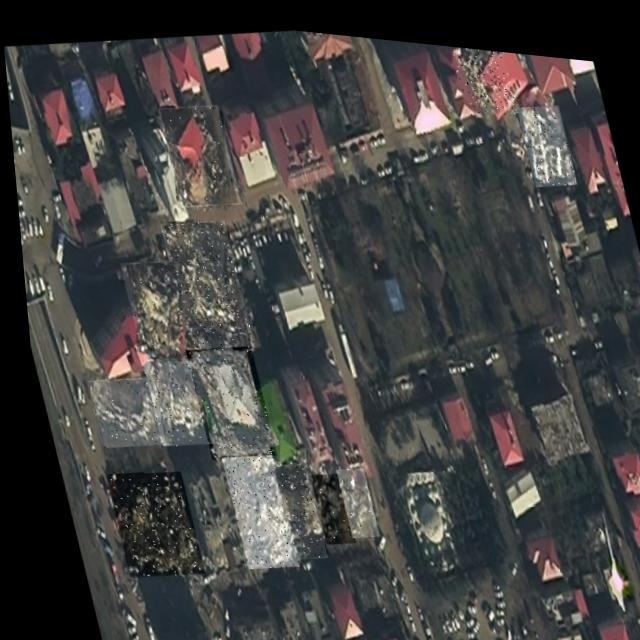Rubble: (155, 211, 251, 357), (97, 462, 195, 582), (179, 336, 270, 461), (214, 445, 291, 569), (155, 96, 239, 209), (115, 251, 196, 364), (135, 351, 214, 449), (80, 371, 157, 452), (515, 90, 576, 179), (265, 455, 318, 556), (447, 36, 518, 111), (301, 465, 348, 541), (328, 459, 371, 534)
